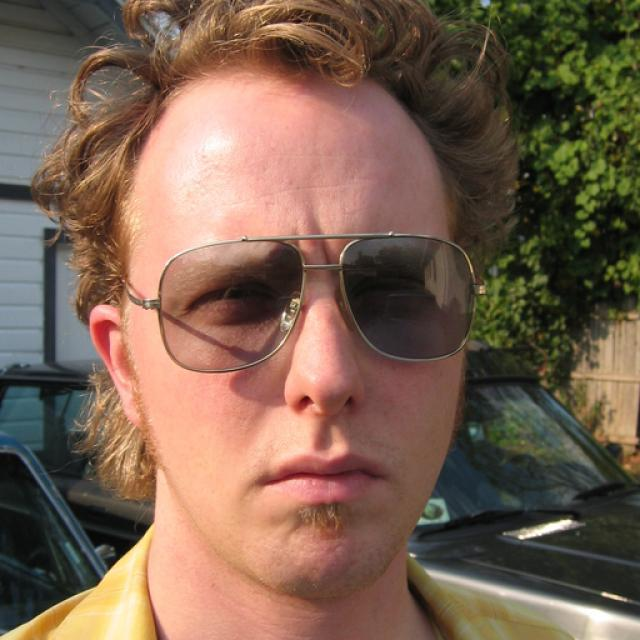anger: (129, 101, 469, 594)
